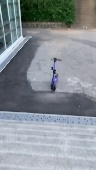beam: (48, 56, 63, 92)
